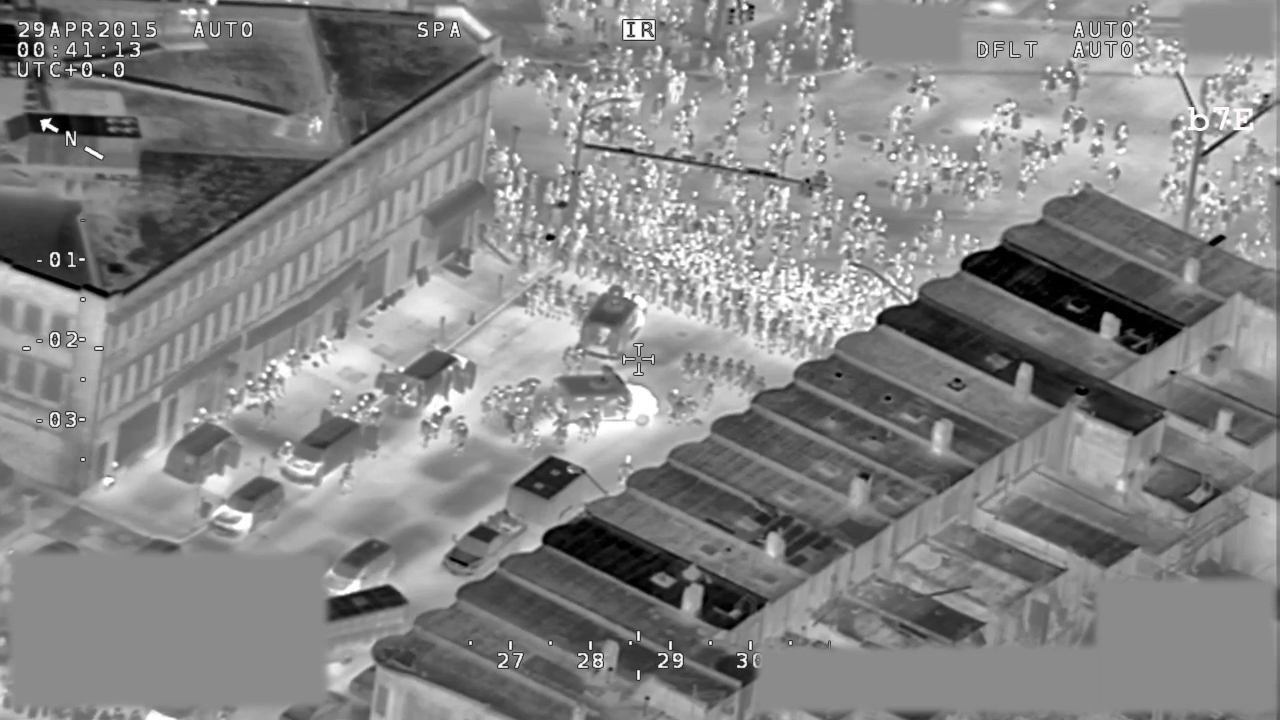vehicle: (278, 406, 382, 493), (539, 368, 662, 440), (375, 347, 479, 420), (504, 454, 590, 541), (437, 506, 532, 583), (576, 280, 650, 366), (154, 420, 243, 489), (207, 474, 287, 542), (322, 535, 401, 598)
